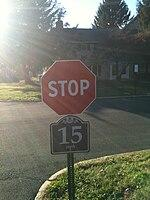Stop: (37, 56, 94, 119)
